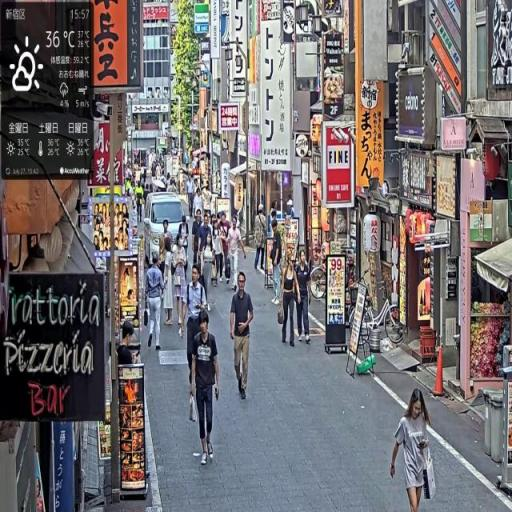person: (188, 309, 223, 470), (391, 389, 436, 512), (181, 262, 210, 413), (230, 273, 255, 404), (146, 252, 167, 354), (279, 259, 301, 348), (295, 250, 313, 345), (228, 216, 244, 287), (255, 204, 269, 276)
